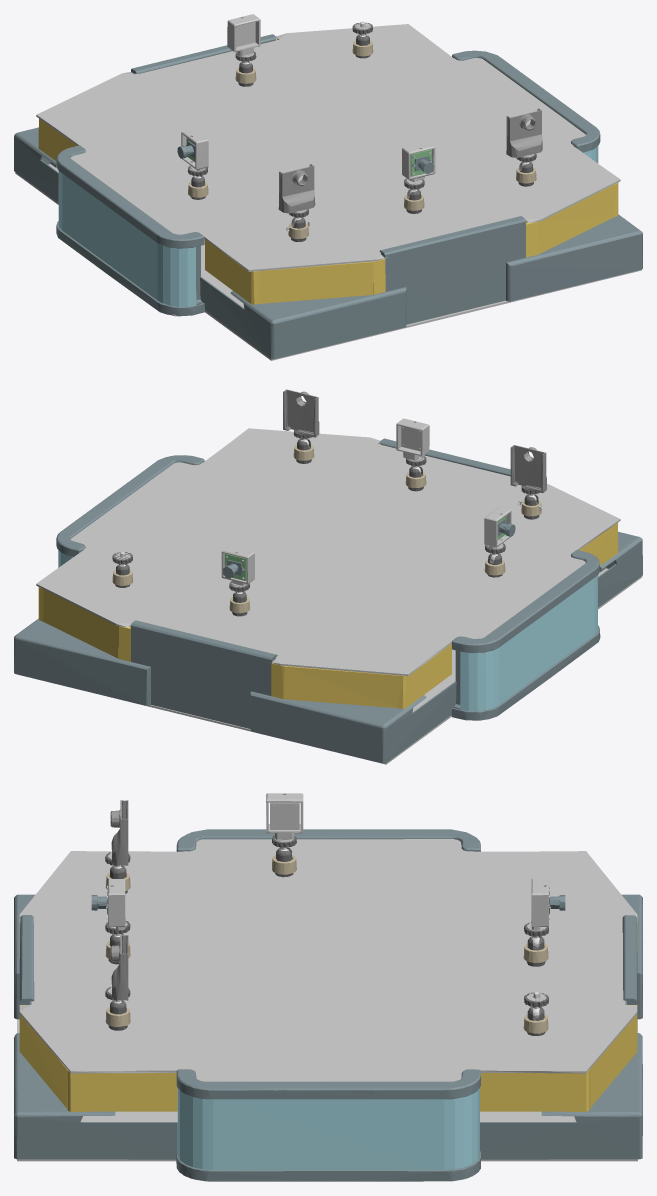
The model's file is amr-base.dae.
3 renders of one model, top to bottom at view 1: azimuth 30°, elevation 25°; view 2: azimuth 150°, elevation 25°; view 3: azimuth 270°, elevation 25°, orthographic. The views are drawn at different scales.
Parts seen in each view (by area): view 1: AMR-onsemi-sim v2; view 2: AMR-onsemi-sim v2; view 3: AMR-onsemi-sim v2.
Boxes of the visible parts, x1,y1,x2,y2 form: AMR-onsemi-sim v2: (14,14,642,360); AMR-onsemi-sim v2: (14,389,642,764); AMR-onsemi-sim v2: (14,793,642,1181).
Size of the model in its own units: 0.6285 by 0.6409 by 0.1947.
